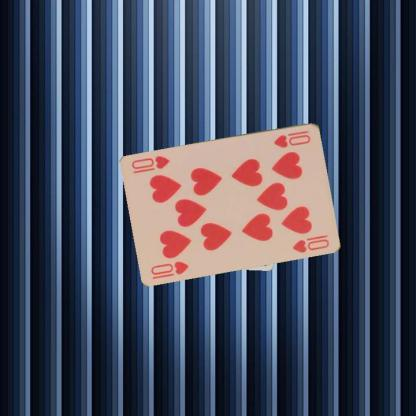10h: (271, 127, 312, 149), (149, 258, 190, 280)
